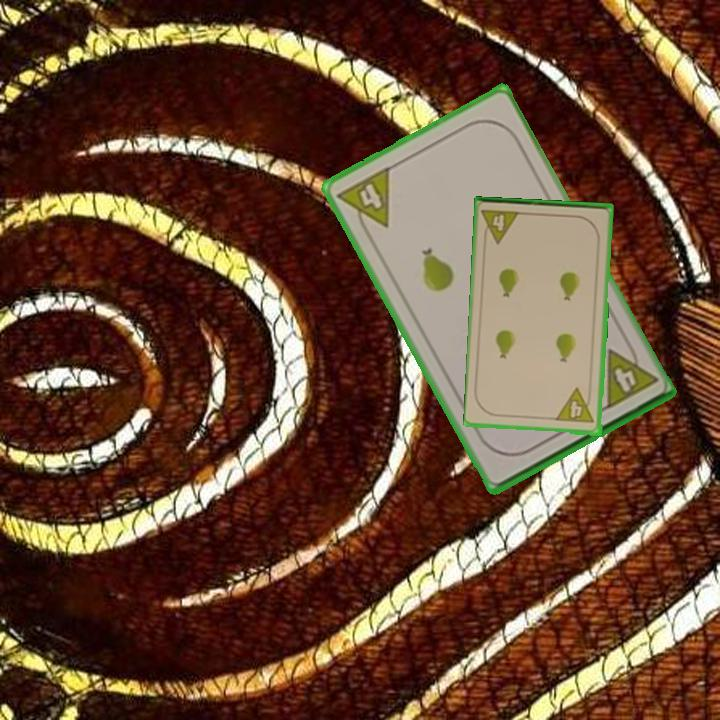4p: (333, 162, 393, 240), (601, 337, 660, 412), (478, 206, 523, 247), (554, 386, 598, 426)
